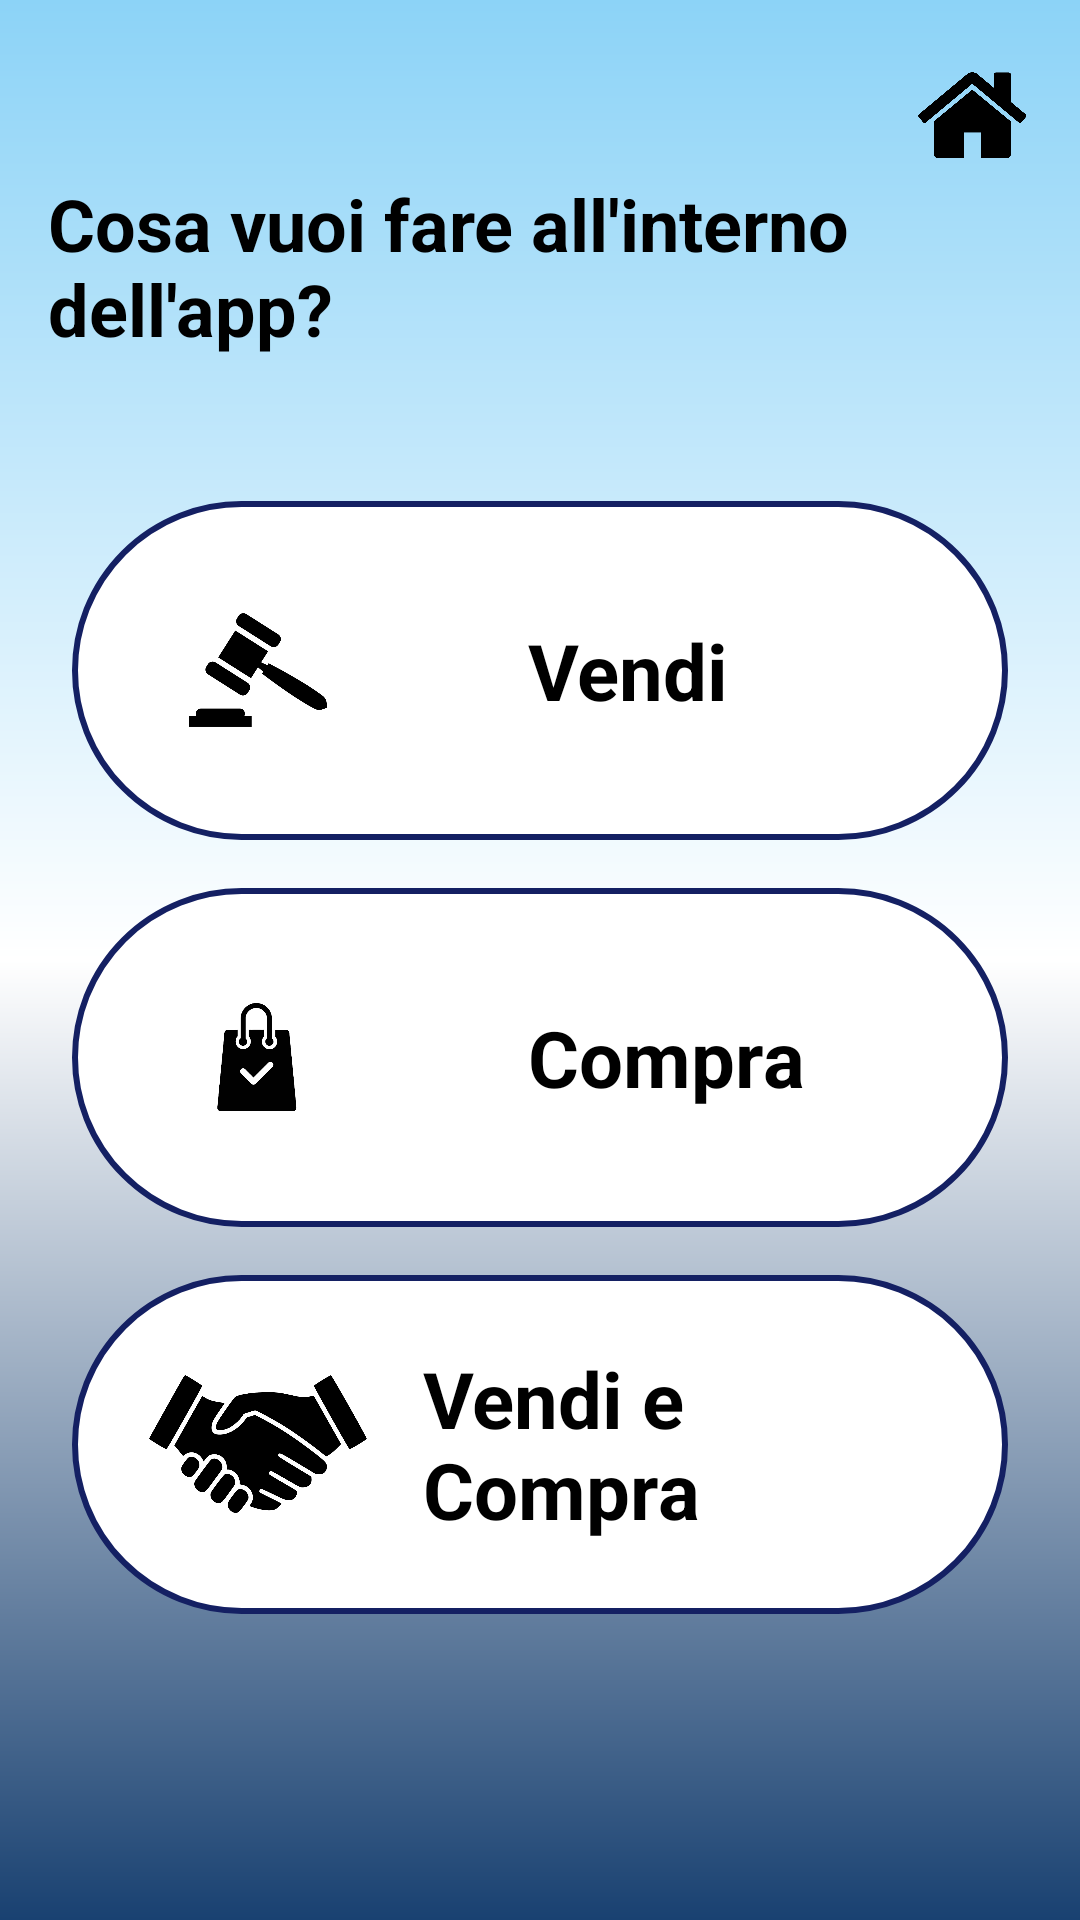

Point at icon controls on the screen. Image size 1080 × 1920, points as point (x, y).
home: point (972, 115)
